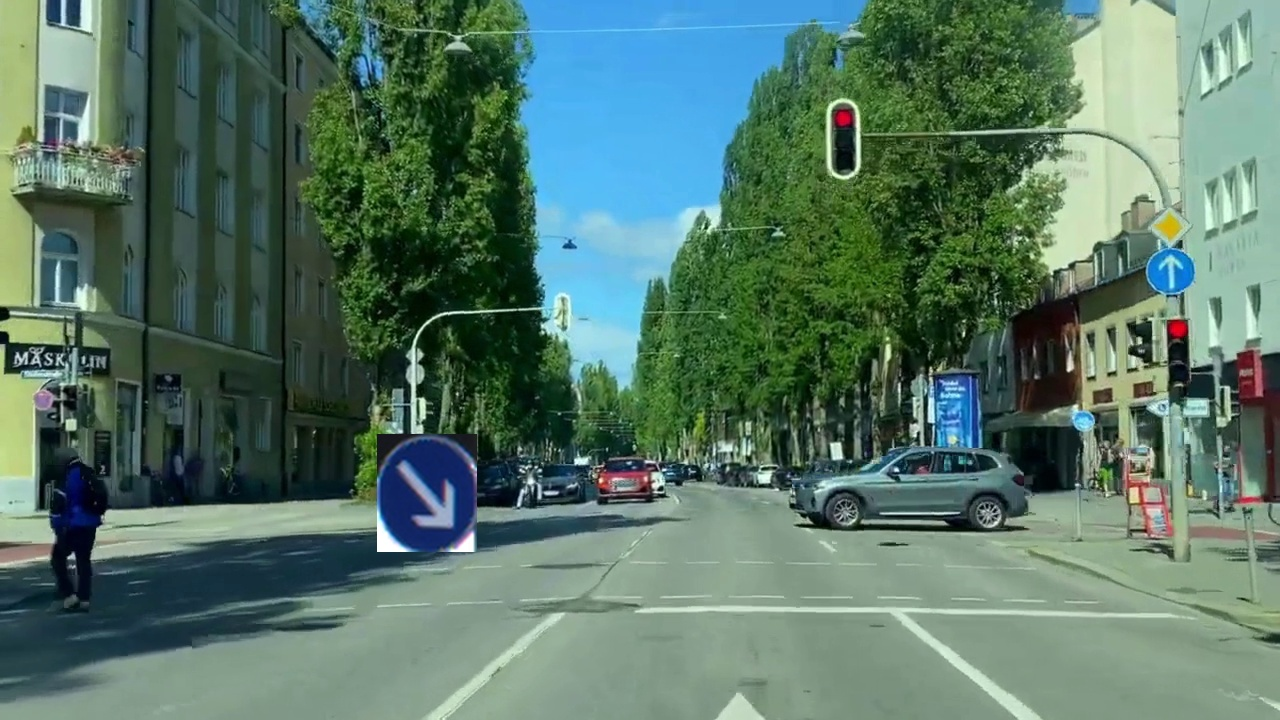Keep right: (377, 434, 477, 552)
